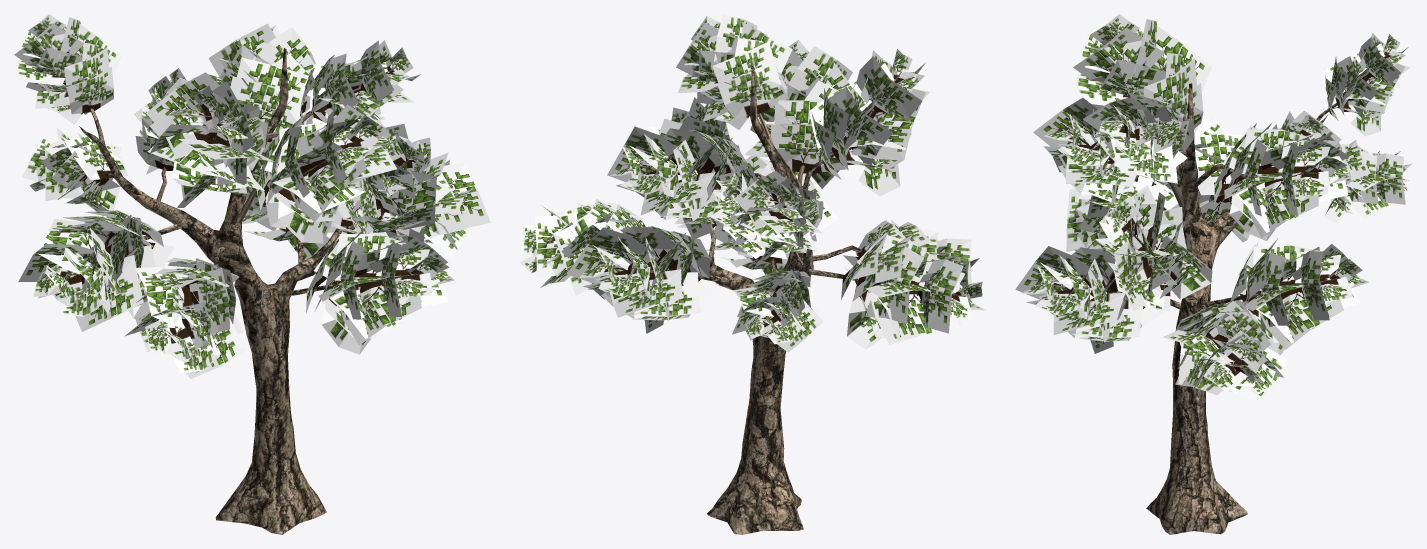
Rendered from Tree.dae.
3 views of the same model, side by side, from view 1: azimuth 30°, elevation 25°; view 2: azimuth 150°, elevation 25°; view 3: azimuth 270°, elevation 25° (orthographic). The views are drawn at different scales.
Visible parts, largest first — view 1: Tree; view 2: Tree; view 3: Tree.
Part boxes in pixels (bbox=[...]): Tree: bbox=[14, 14, 490, 534]; Tree: bbox=[519, 14, 985, 534]; Tree: bbox=[1015, 14, 1412, 534].
Size of what is drawn, in the model's own units: 18.18 by 14.67 by 18.5.
